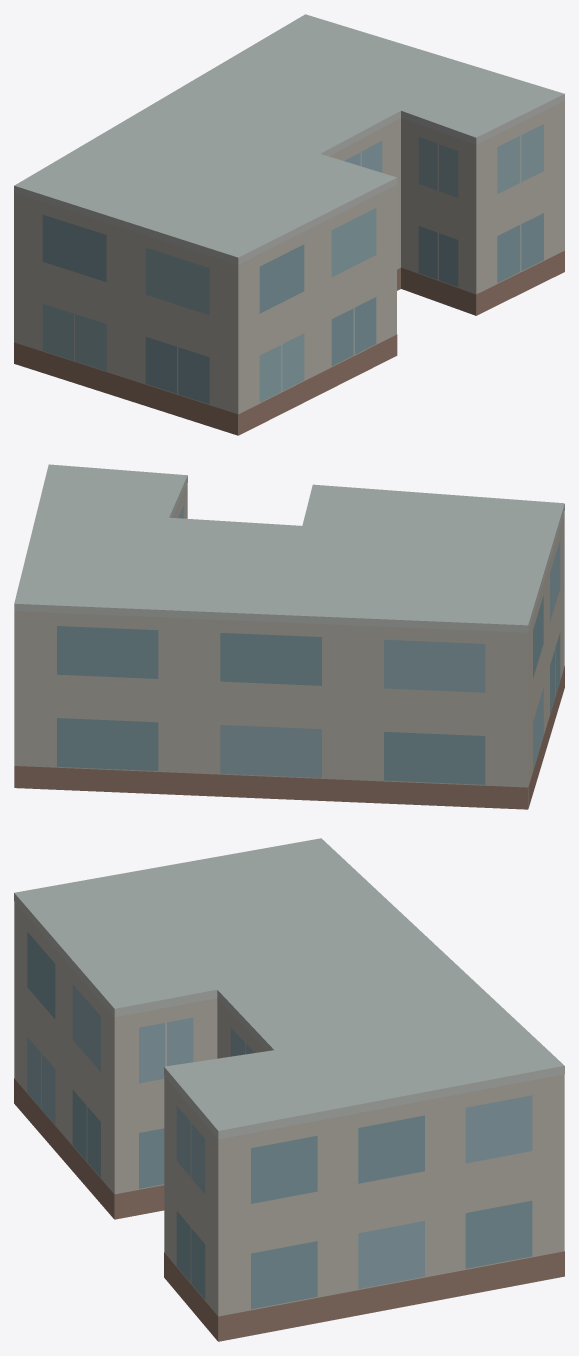
File: survey-upis-32760081.glb
The picture shows the model from 3 angles, top to bottom: view 1: azimuth 30°, elevation 25°; view 2: azimuth 150°, elevation 25°; view 3: azimuth 270°, elevation 25°; orthographic projection. The views are drawn at different scales.
Parts seen in each view (by area): view 1: survey-upis-32760081.tmp; view 2: survey-upis-32760081.tmp; view 3: survey-upis-32760081.tmp.
Part boxes in pixels (<box>): survey-upis-32760081.tmp: <box>14,14,564,435</box>; survey-upis-32760081.tmp: <box>14,464,564,809</box>; survey-upis-32760081.tmp: <box>14,838,564,1341</box>.
Bounding box in the file's own units: 18.19 × 6.1 × 14.46.
